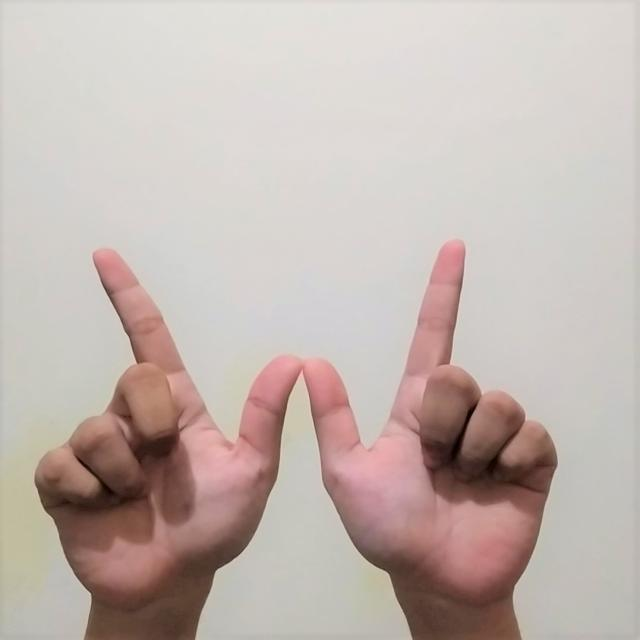W: (24, 217, 562, 608)
